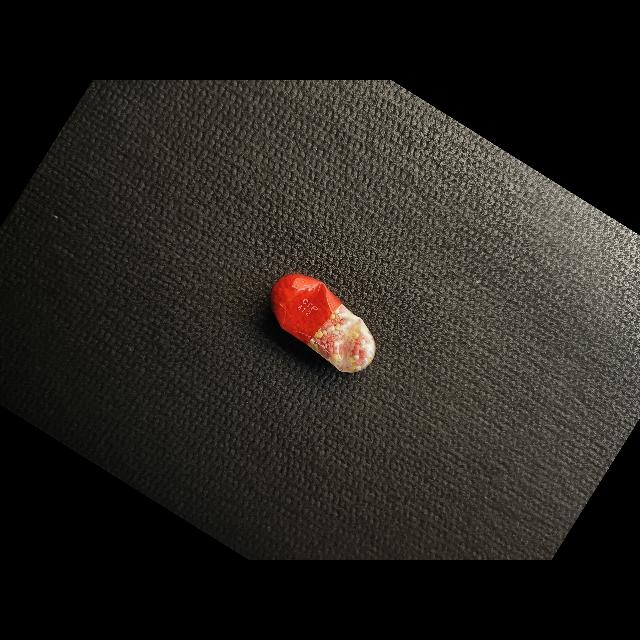Defective Capsule: (270, 274, 376, 373)
